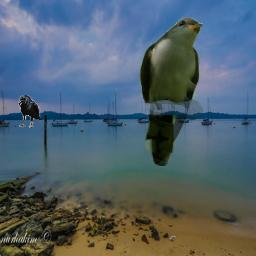Crow: (18, 95, 41, 128)
Cuckoo: (139, 17, 203, 166)
